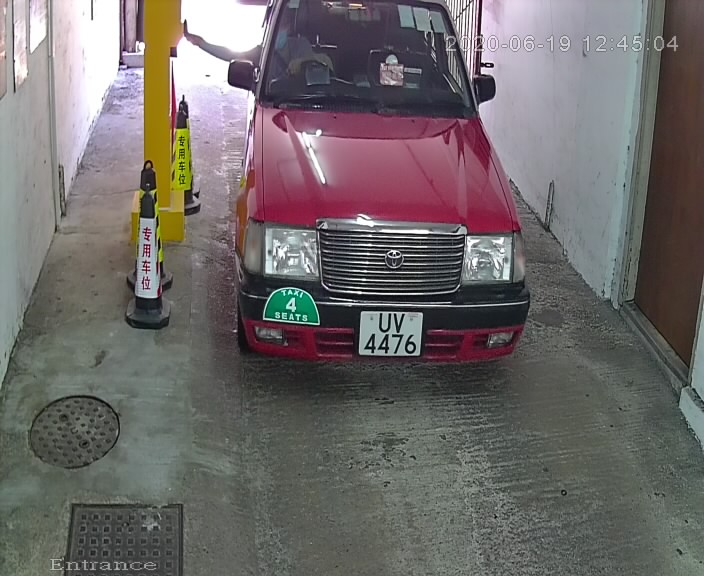taxi: (221, 1, 541, 390)
taxi_mark: (255, 281, 329, 336)
